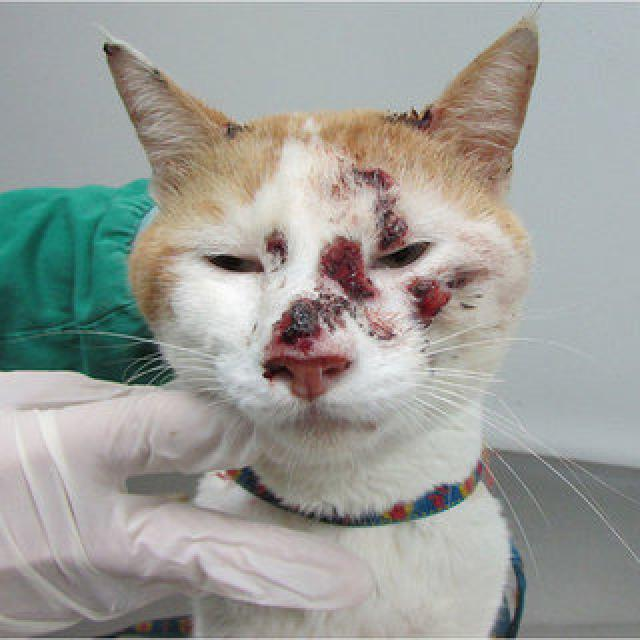cat-dermatitis: (261, 226, 373, 346), (359, 167, 412, 237), (408, 279, 450, 317), (366, 316, 396, 342), (450, 268, 484, 290)
